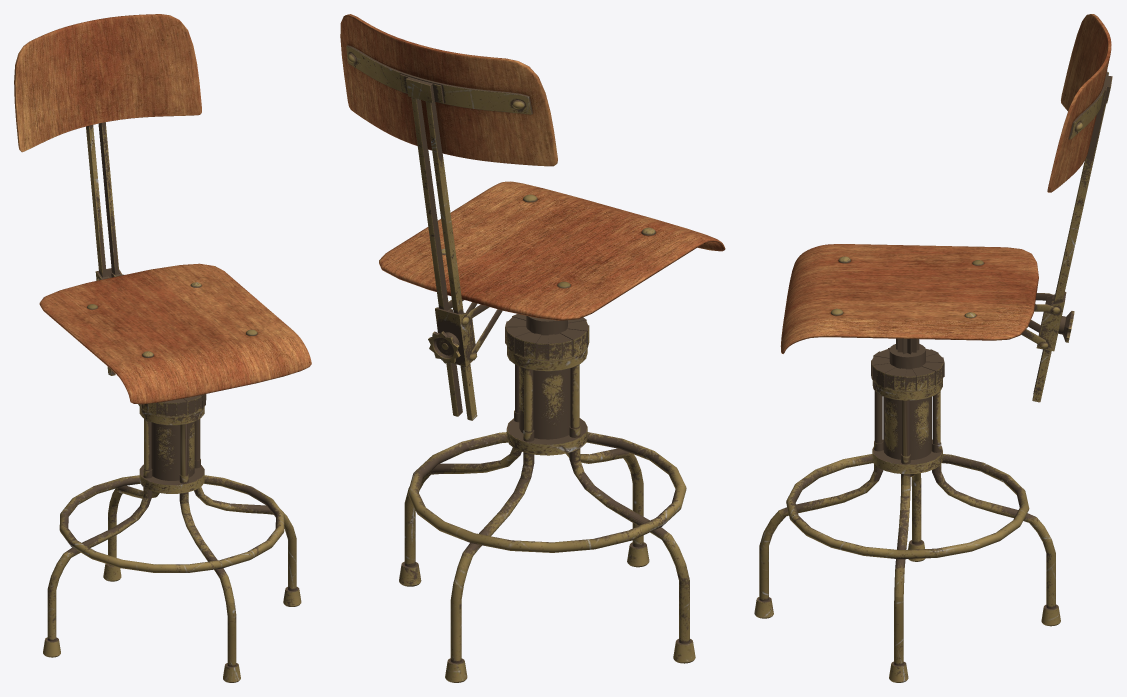
Rendered from chair5.glb.
The picture shows the model from 3 angles, left to right: view 1: azimuth 30°, elevation 25°; view 2: azimuth 150°, elevation 25°; view 3: azimuth 270°, elevation 25°; orthographic projection. The views are drawn at different scales.
Parts seen in each view (by area): view 1: defaultMaterial; view 2: defaultMaterial; view 3: defaultMaterial.
Boxes of the visible parts, x1,y1,x2,y2 form: defaultMaterial: (14, 14, 311, 682); defaultMaterial: (340, 14, 725, 682); defaultMaterial: (754, 14, 1112, 682).
Bounding box in the file's own units: 0.4465 × 0.9222 × 0.5216.
Materials: 1 (1 with a texture image).
